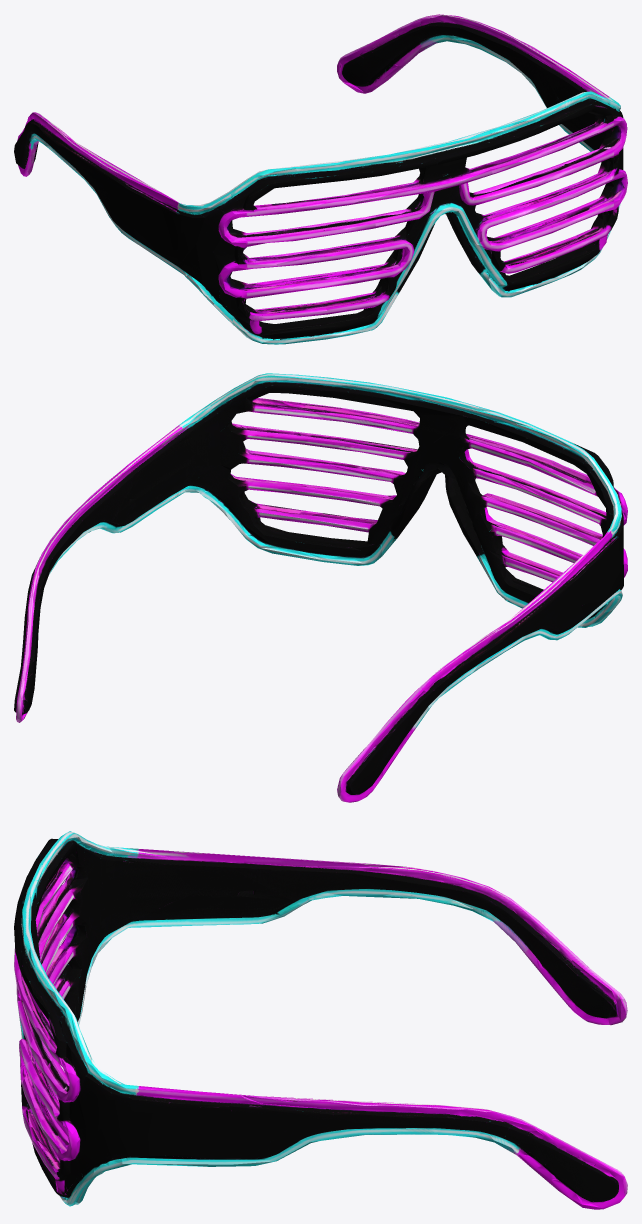
File: neon-shades.glb
3 renders of one model, top to bottom at view 1: azimuth 30°, elevation 25°; view 2: azimuth 150°, elevation 25°; view 3: azimuth 270°, elevation 25°, orthographic. The views are drawn at different scales.
Bounding box in the file's own units: 1.82 × 0.6915 × 1.9.
Materials: 1 (1 with a texture image).
